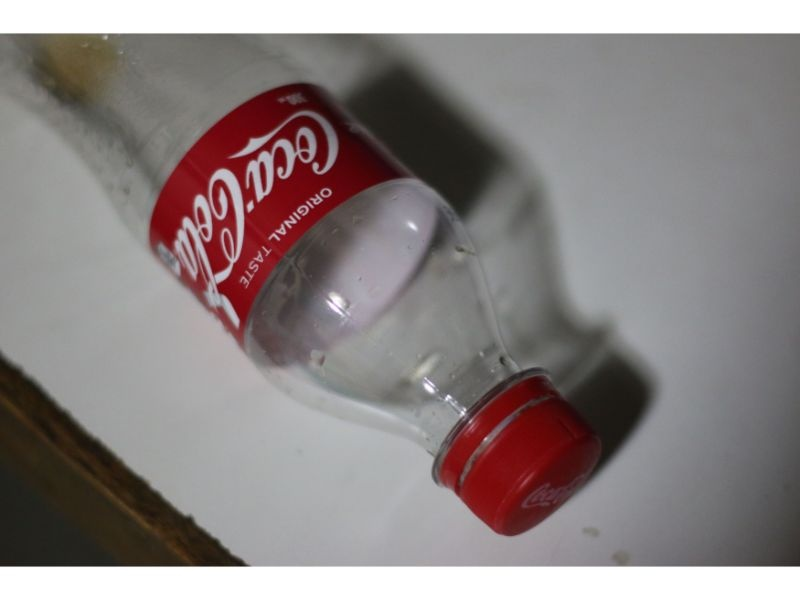PET #1: (3, 32, 605, 542)
